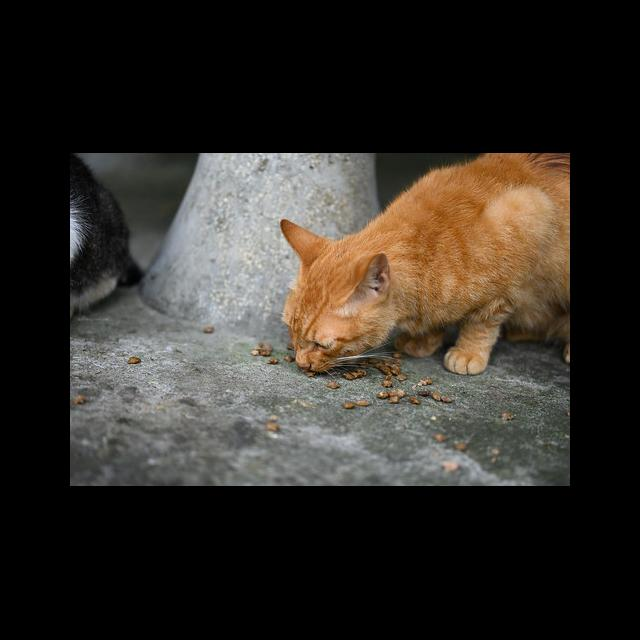animals: (280, 154, 570, 376), (70, 154, 144, 318)
